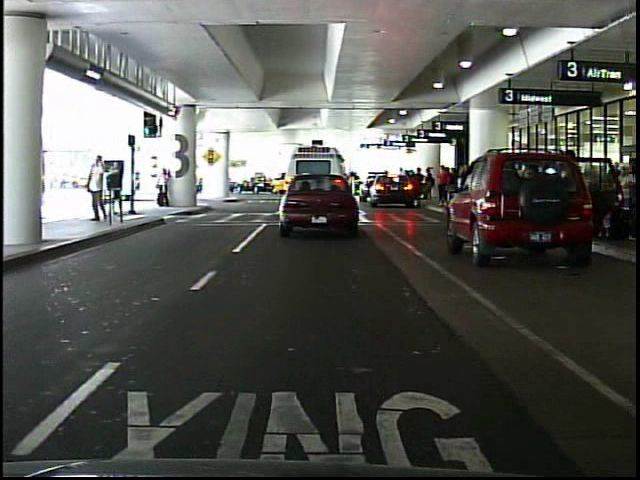person: (86, 152, 111, 227), (109, 157, 126, 218), (154, 167, 174, 210), (436, 164, 452, 206), (196, 165, 210, 204)
